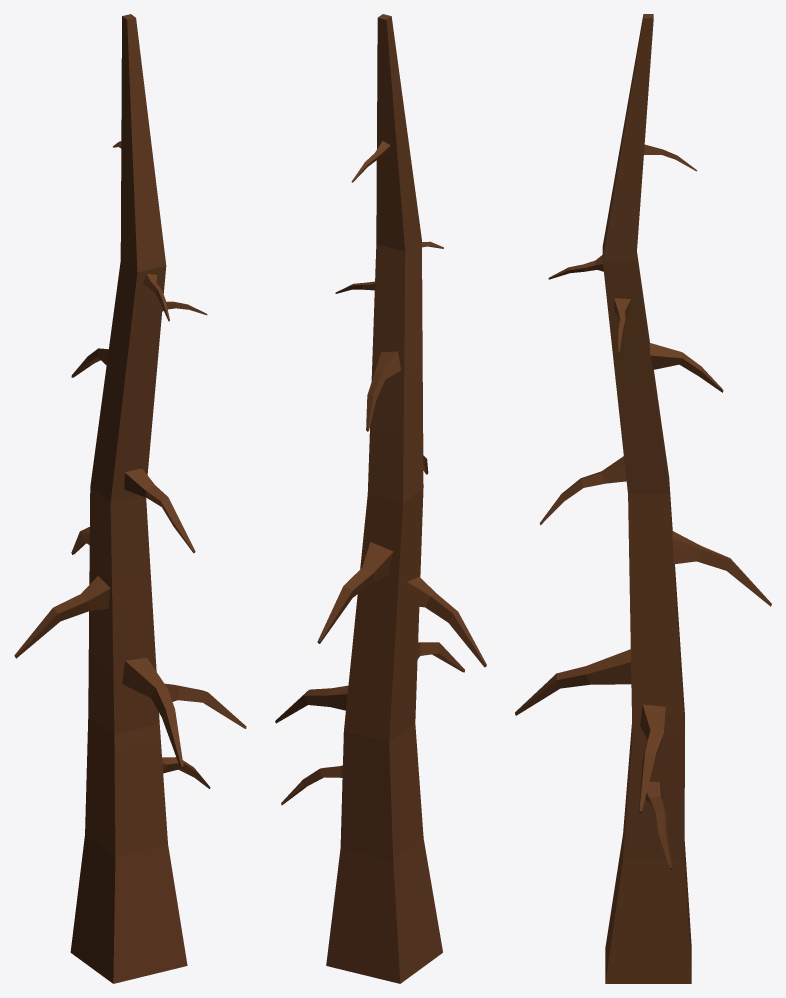
Rendered from tree4.glb.
3 views of the same model, side by side, from view 1: azimuth 30°, elevation 25°; view 2: azimuth 150°, elevation 25°; view 3: azimuth 270°, elevation 25° (orthographic).
Visible parts, largest first — view 1: Dead straight tree; view 2: Dead straight tree; view 3: Dead straight tree.
Part boxes in pixels (left/top/right/bottom): Dead straight tree: left=14, top=14, right=246, bottom=983; Dead straight tree: left=275, top=14, right=486, bottom=983; Dead straight tree: left=515, top=14, right=771, bottom=983.
Size of the model in its own units: 1.1 by 4.5 by 1.1.
1 material, 1 textured.
